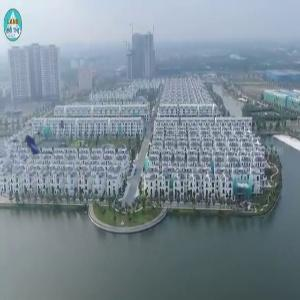drone: (8, 113, 68, 173)
